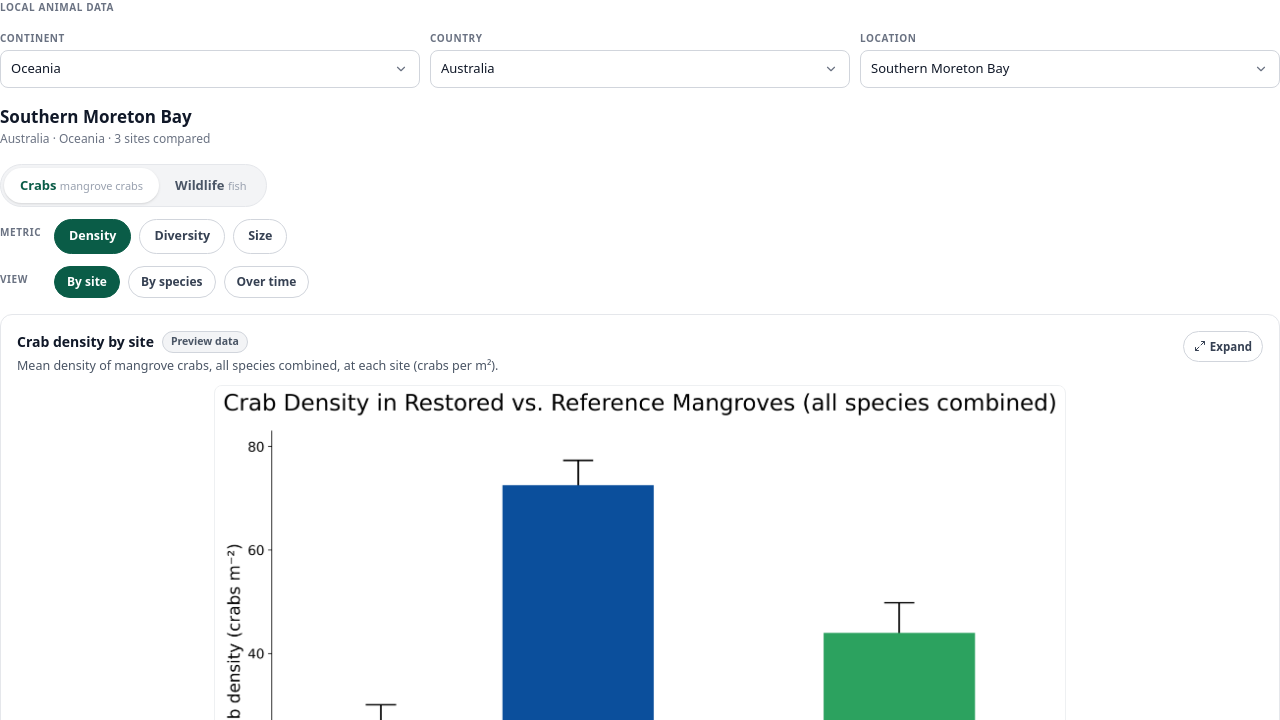
Test: LocalAnimalPanel › flag on › opens the plot full size in a lightbox and closes it
Click the button "Expand". click: (1223, 346)
box: [1183,331,1263,362]
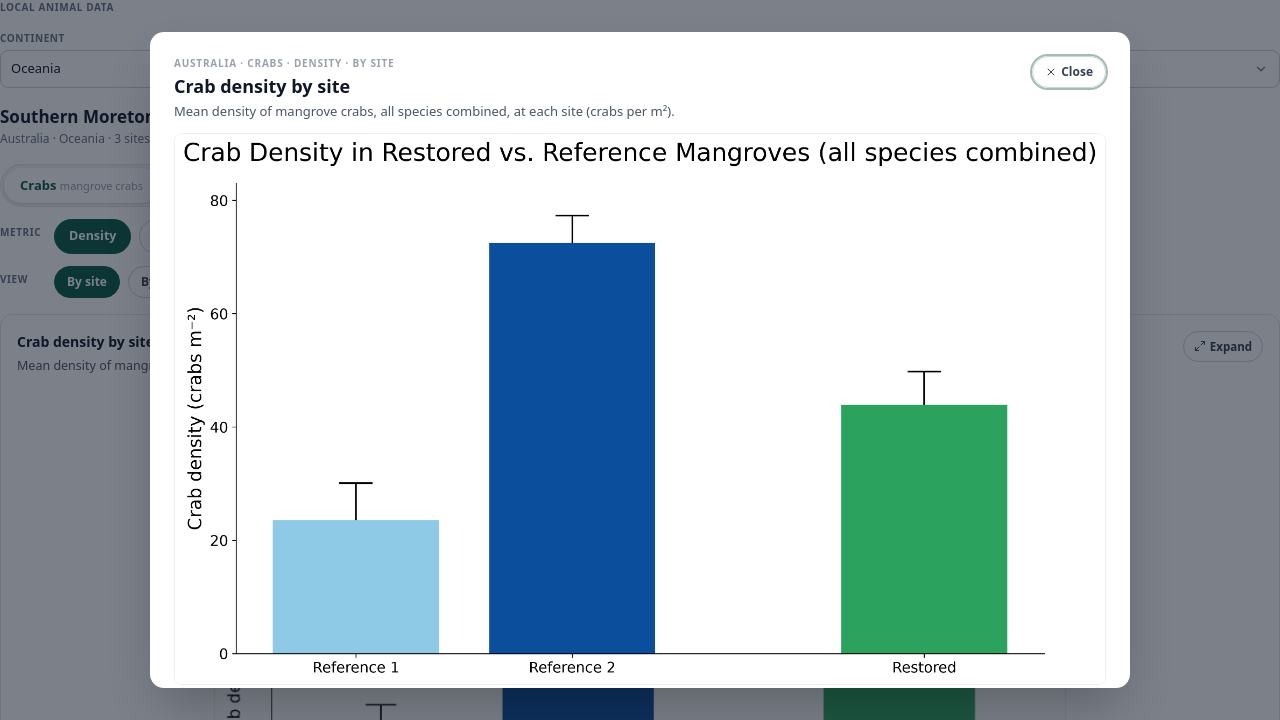
Expected: the text "Australia · Crabs · Density · By site" is shown, [174,56,394,70]
Click the button "Close". click: (1069, 72)
box: [1032,56,1106,88]
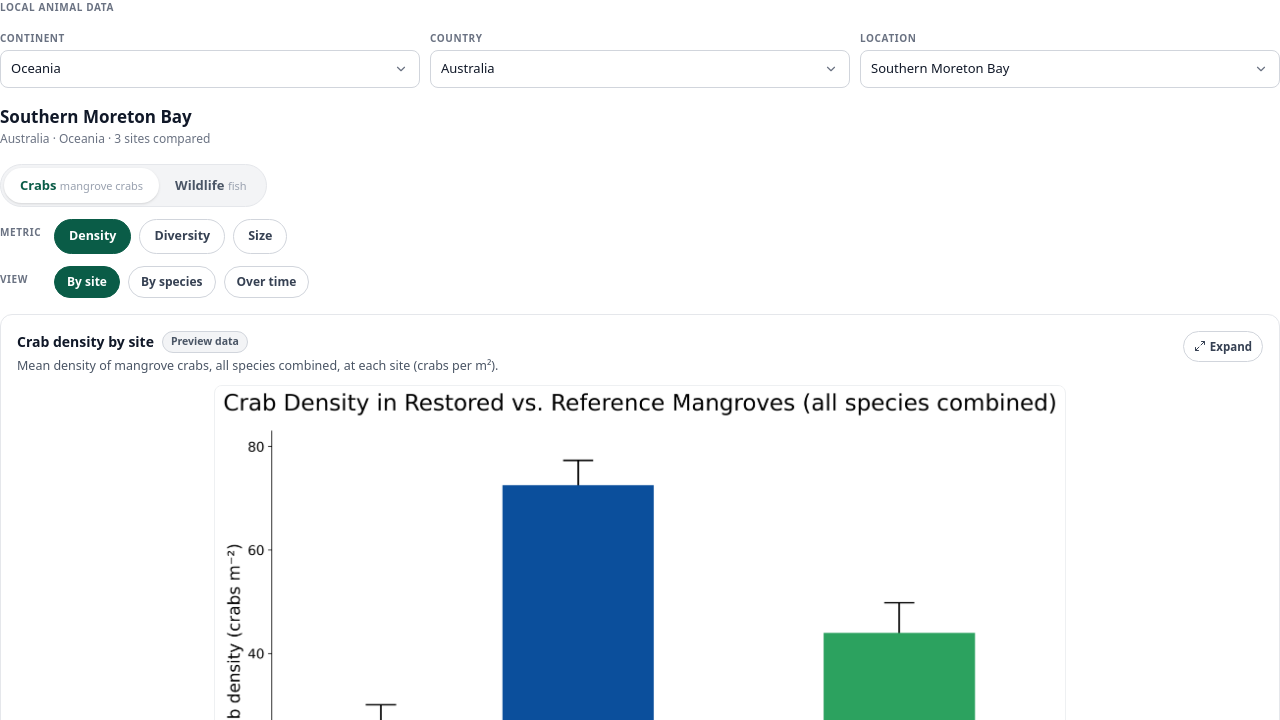
Expected: the dialog is gone
